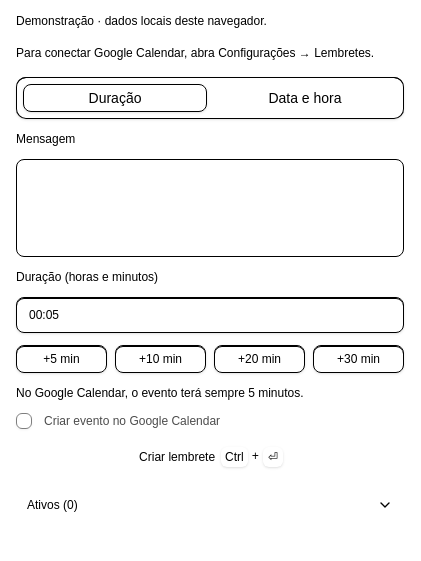
Test: normalizes shortcuts and prevents wrapping past the time selector limit
Replace the text in the field labelled "Duração (horas e minutos)" with "00:50": (210, 315) [16,297,404,333]
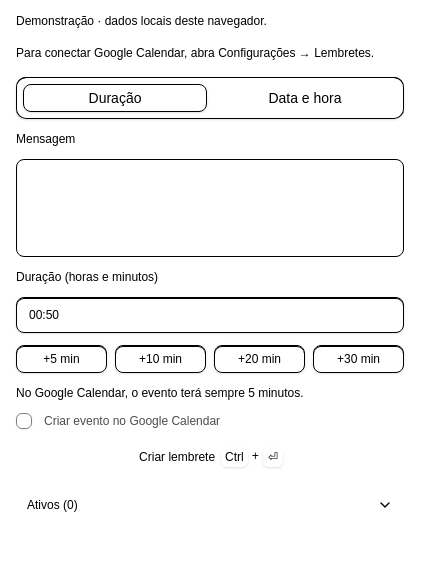
Click the button with aria-label "Adicionar 20 minutos": (260, 359) [214,345,305,373]
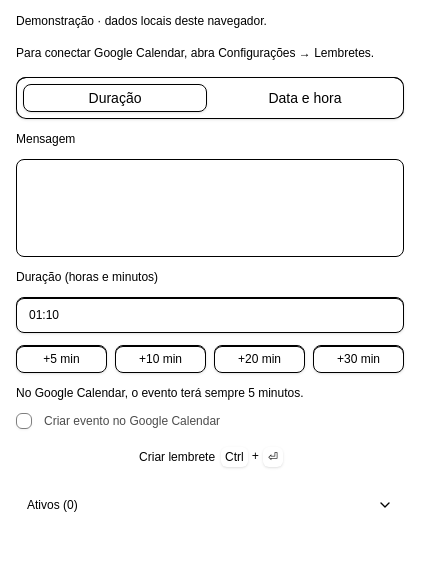
Expected: the field labelled "Duração (horas e minutos)" holds "01:10"
Replace the text in the field labelled "Duração (horas e minutos)" with "23:50": (210, 315) [16,297,404,333]
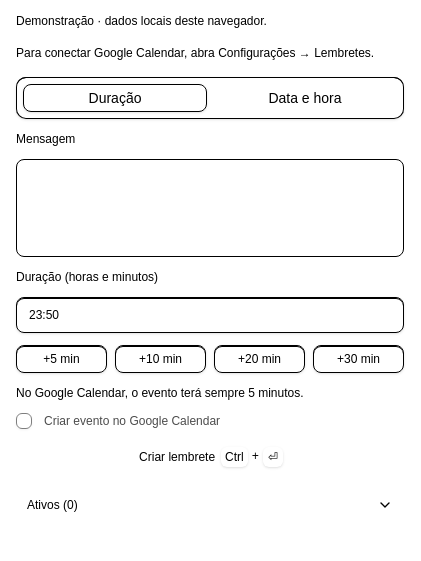
Click the button with aria-label "Adicionar 20 minutos": (260, 359) [214,345,305,373]
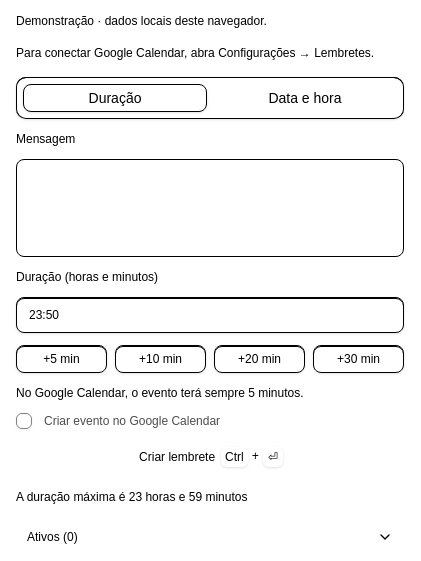
Expected: the message shows "23 horas e 59 minutos", [16,490,248,504]
